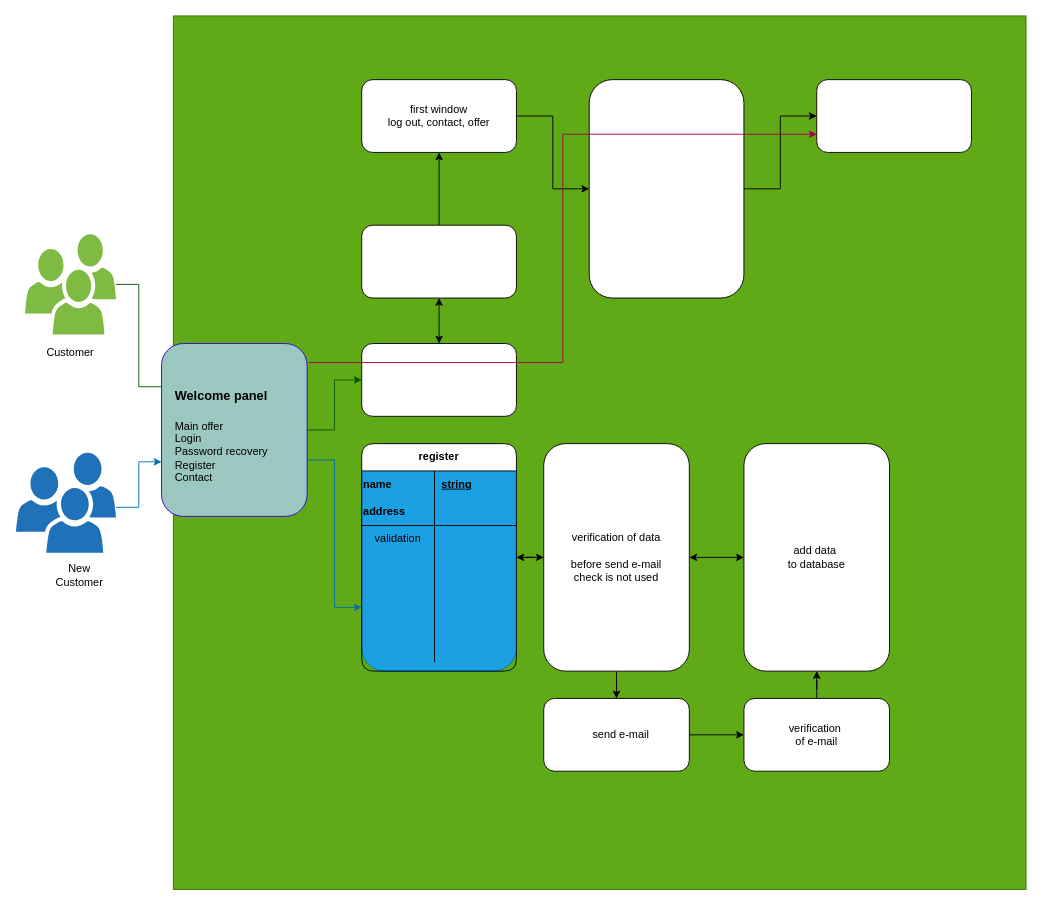
The diagram is 1042 pixels wide and 905 high, and some of its shapes have lost their labels. The shapes that lost their labels are listed below. From the top down, each one's centre as x and y in pixels, then its label:
point 893,115: check available products in database
point 666,188: current budget, create new order, my order
point 438,261: check value in database
point 438,379: input e-mail or login input password
